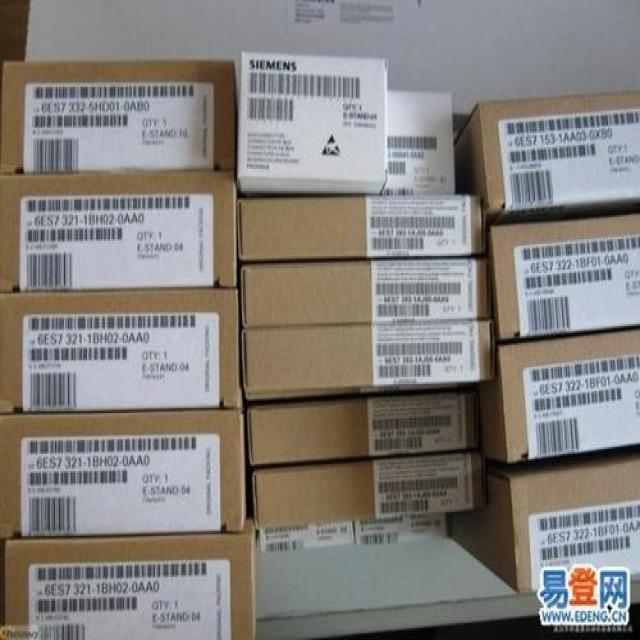box: (0, 507, 256, 638), (0, 409, 250, 539), (0, 288, 243, 415), (0, 170, 237, 290), (449, 445, 639, 591), (452, 90, 639, 227), (236, 52, 387, 197), (477, 328, 639, 462), (242, 321, 492, 403), (485, 212, 639, 345), (248, 390, 477, 470), (252, 450, 485, 528), (240, 259, 492, 329), (238, 195, 487, 264), (382, 89, 455, 197)
